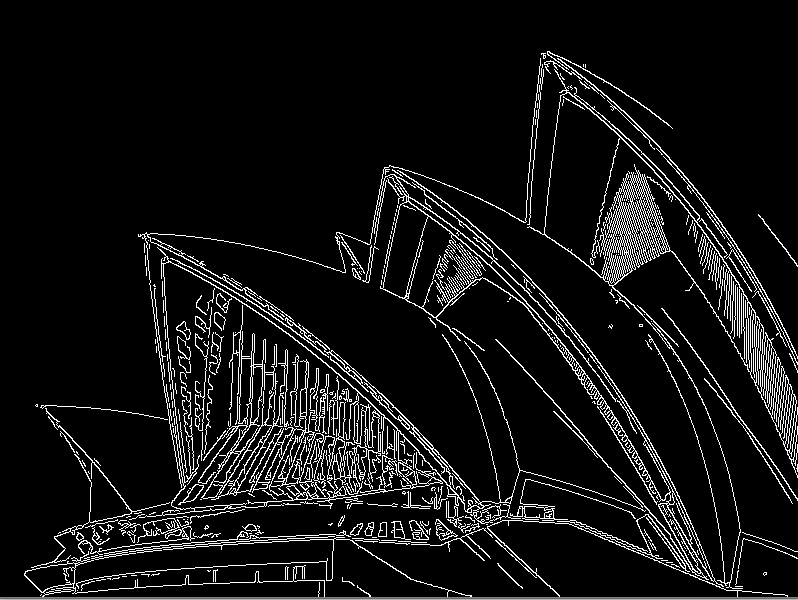opera house: (15, 16, 798, 552)
